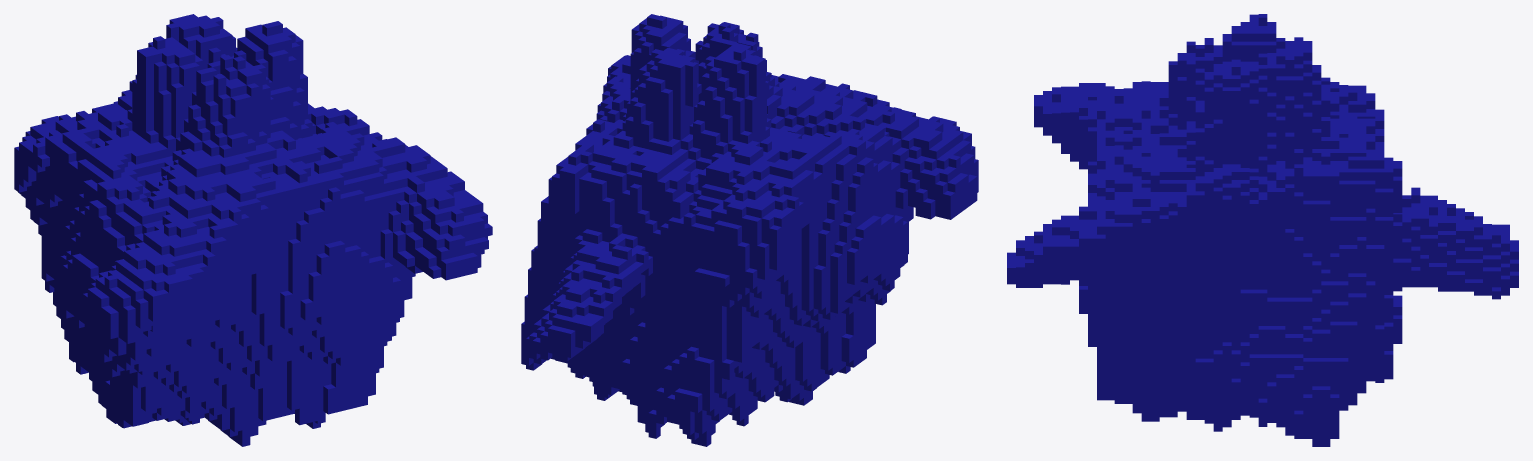
The model's file is ideoARt.obj.
3 renders of one model, left to right at view 1: azimuth 30°, elevation 25°; view 2: azimuth 150°, elevation 25°; view 3: azimuth 270°, elevation 25°, orthographic. The views are drawn at different scales.
Parts seen in each view (by area): view 1: Cube_Cube.001; view 2: Cube_Cube.001; view 3: Cube_Cube.001.
Boxes of the visible parts, box(x1,y1,x2,y2) form: Cube_Cube.001: box(14, 14, 492, 446); Cube_Cube.001: box(521, 14, 978, 446); Cube_Cube.001: box(1007, 14, 1518, 446).
Bounding box in the file's own units: 3.09 × 3.02 × 3.92.
